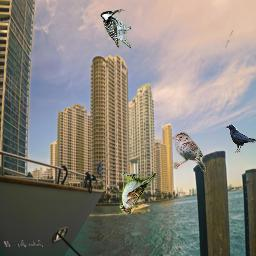Crow: (225, 124, 256, 153)
Sparrow: (119, 173, 156, 213), (172, 132, 206, 172)
Woodpecker: (100, 9, 131, 49)
